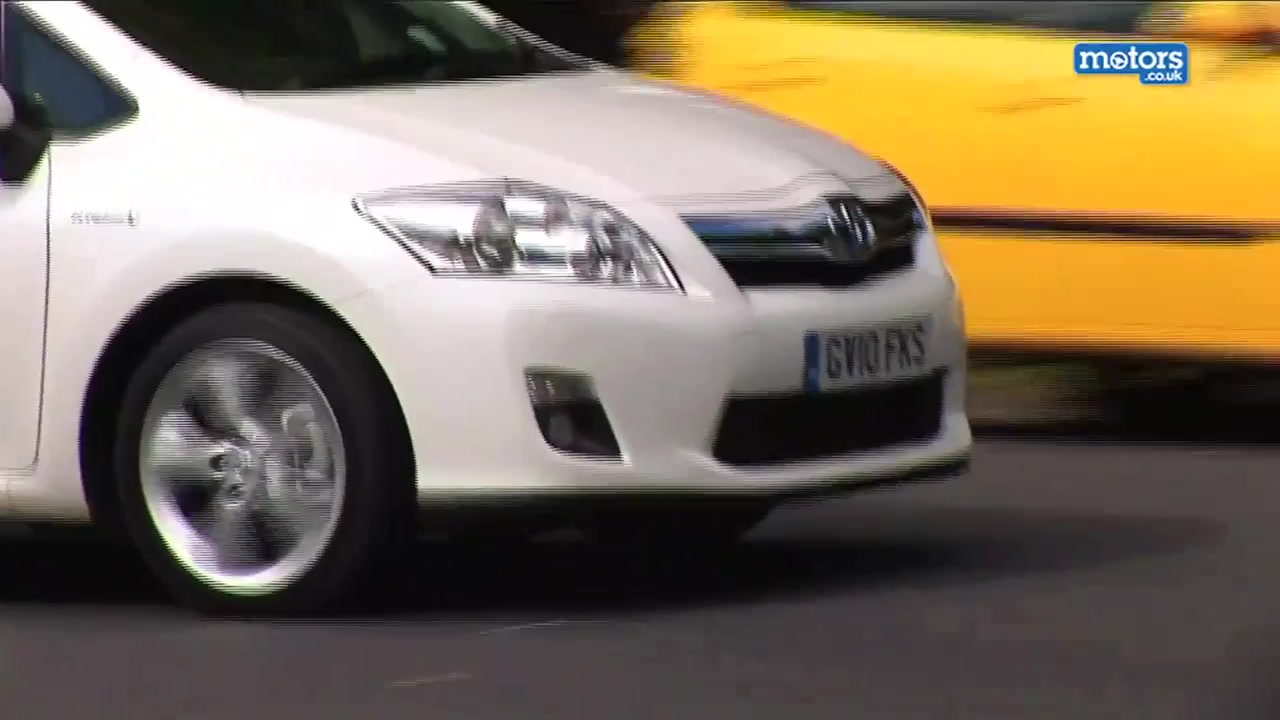car: (1, 1, 977, 627), (621, 1, 1280, 373)
